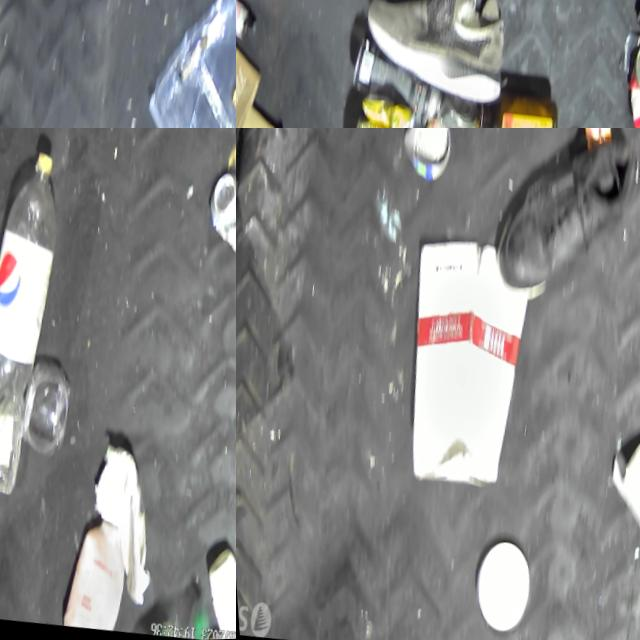can: (334, 30, 442, 128), (196, 170, 236, 262), (393, 128, 456, 185), (609, 30, 640, 128), (422, 90, 472, 128), (333, 111, 407, 128)
plastic_bottle: (0, 143, 73, 413)
